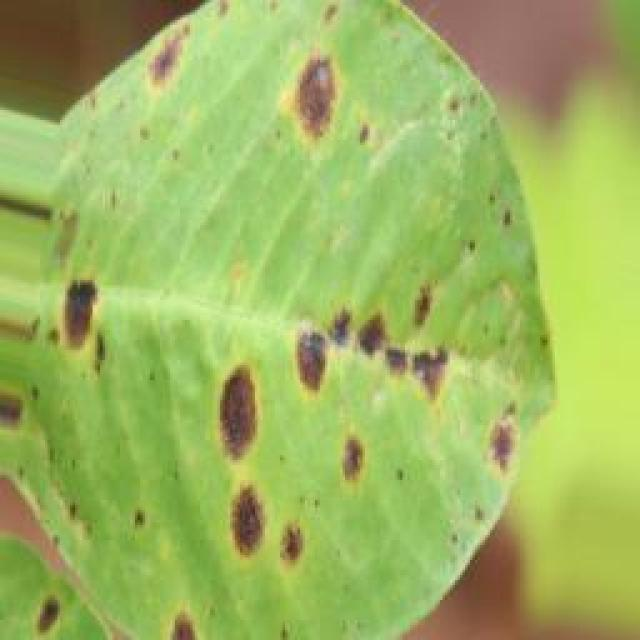Yellowish: (44, 0, 540, 640)
